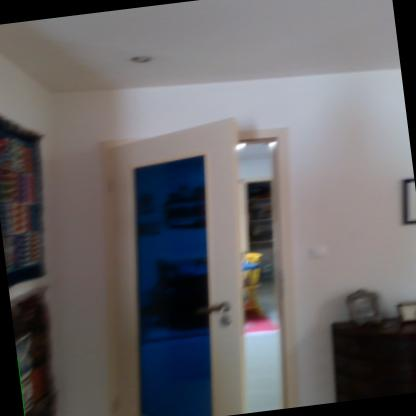semi: (93, 112, 333, 415)
